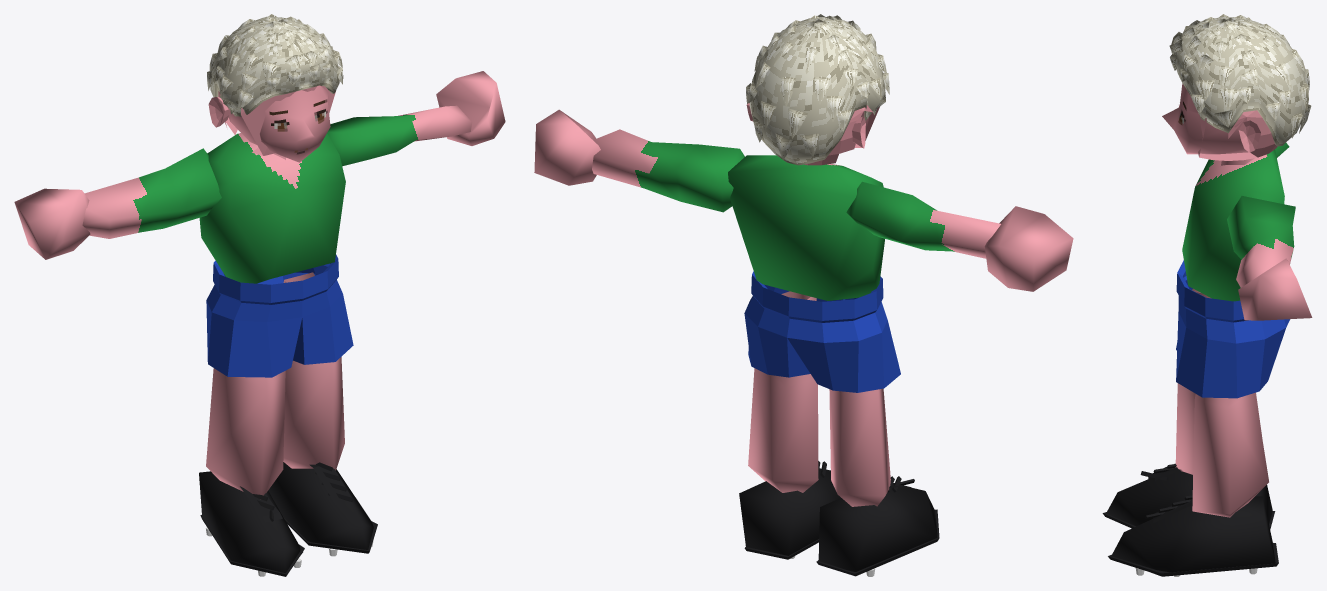
The model's file is 05-crespo-curto_loiro-pintado.glb.
The picture shows the model from 3 angles, left to right: view 1: azimuth 30°, elevation 25°; view 2: azimuth 150°, elevation 25°; view 3: azimuth 270°, elevation 25°; orthographic projection. The views are drawn at different scales.
Parts seen in each view (by area): view 1: Camisa_Tronco, Bermuda, Cabelo, Perna.R, Braco.R, Perna.L, Chuteira.R, Chuteira.L, Braco.L, Mao.R, Cabeca, Mao.L (+3 smaller); view 2: Camisa_Tronco, Cabelo, Bermuda, Perna.L, Braco.L, Chuteira.R, Perna.R, Braco.R, Mao.R, Chuteira.L, Mao.L, Cranio (+1 smaller); view 3: Cabelo, Bermuda, Chuteira.L, Camisa_Tronco, Perna.L, Braco.L, Mao.L, Chuteira.R, Cabeca, Perna.R, Cranio, Chuteira_Sola.L (+3 smaller).
Boxes of the visible parts, bbox=[...] form: Camisa_Tronco: bbox=[199, 133, 345, 283]; Bermuda: bbox=[206, 254, 353, 377]; Cabelo: bbox=[207, 14, 343, 116]; Perna.R: bbox=[206, 368, 285, 499]; Braco.R: bbox=[82, 148, 221, 238]; Perna.L: bbox=[283, 272, 344, 470]; Chuteira.R: bbox=[199, 471, 302, 572]; Chuteira.L: bbox=[268, 462, 373, 549]; Braco.L: bbox=[327, 105, 472, 166]; Mao.R: bbox=[14, 188, 90, 259]; Cabeca: bbox=[228, 85, 330, 162]; Mao.L: bbox=[436, 71, 505, 145]; Camisa_Tronco: bbox=[728, 155, 884, 300]; Cabelo: bbox=[746, 14, 889, 165]; Bermuda: bbox=[744, 271, 900, 392]; Perna.L: bbox=[748, 291, 818, 492]; Braco.L: bbox=[592, 129, 744, 212]; Chuteira.R: bbox=[818, 483, 937, 571]; Perna.R: bbox=[829, 388, 890, 506]; Braco.R: bbox=[846, 181, 1000, 258]; Mao.R: bbox=[984, 206, 1073, 291]; Chuteira.L: bbox=[739, 468, 840, 555]; Mao.L: bbox=[534, 109, 600, 185]; Cranio: bbox=[804, 105, 879, 165]; Cabelo: bbox=[1169, 14, 1311, 146]; Bermuda: bbox=[1176, 260, 1289, 398]; Chuteira.L: bbox=[1111, 496, 1276, 576]; Camisa_Tronco: bbox=[1182, 149, 1284, 301]; Perna.L: bbox=[1192, 393, 1268, 517]; Braco.L: bbox=[1227, 196, 1295, 287]; Mao.L: bbox=[1238, 258, 1312, 320]; Chuteira.R: bbox=[1106, 467, 1272, 526]; Cabeca: bbox=[1162, 83, 1248, 154]; Perna.R: bbox=[1175, 288, 1261, 474]; Cranio: bbox=[1198, 110, 1277, 160]; Chuteira_Sola.L: bbox=[1108, 543, 1278, 576].
Size of the model in its own units: 0.4523 by 0.4504 by 0.1617.
Materials: 3 (3 with a texture image).
